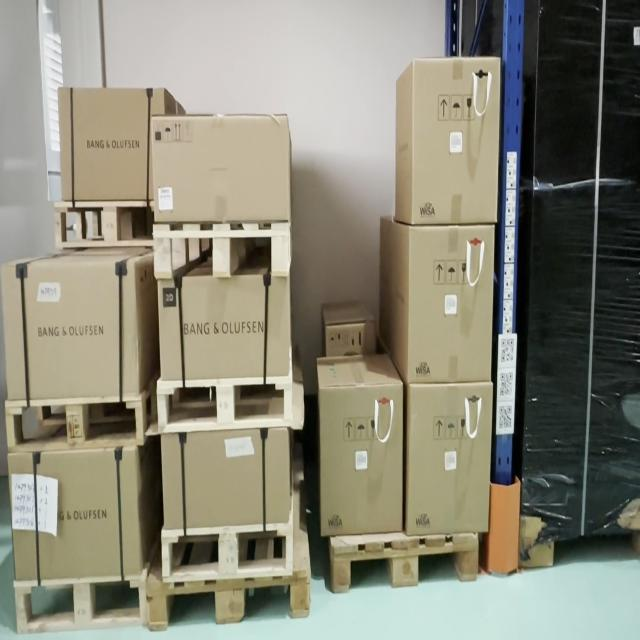box: (521, 0, 640, 513), (2, 267, 140, 397), (16, 450, 136, 579), (153, 117, 289, 218), (414, 59, 496, 220), (410, 227, 495, 378), (162, 278, 288, 379), (58, 87, 164, 199), (319, 389, 402, 530), (162, 436, 289, 524), (411, 387, 487, 530)
